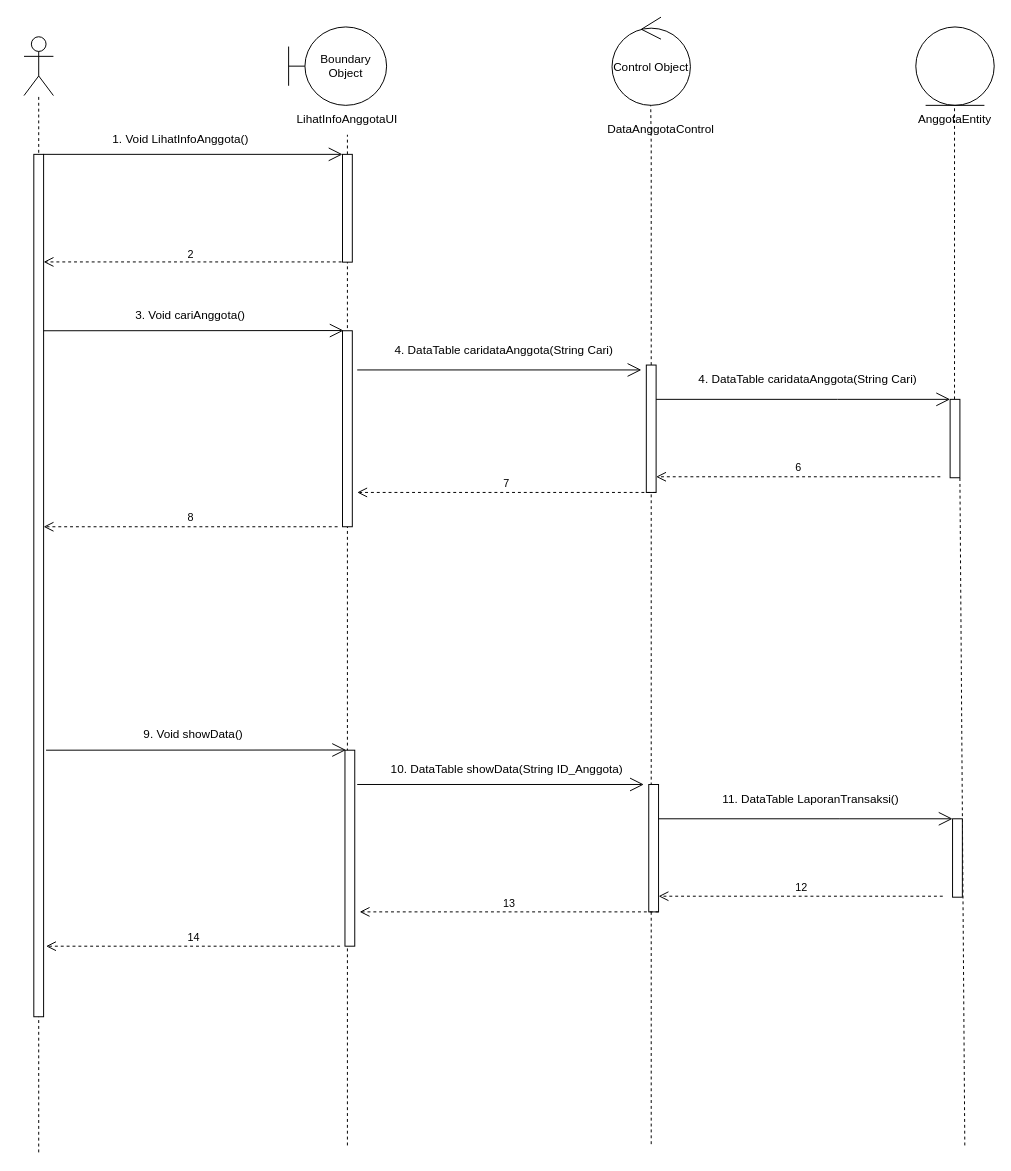
This 1011x1171 diagram has some shape labels left out. Here are the shapes that lost their labels. From the top down, the box of each, then its label:
(23, 36, 53, 96): Anggota
(915, 26, 994, 105): Entity Object
